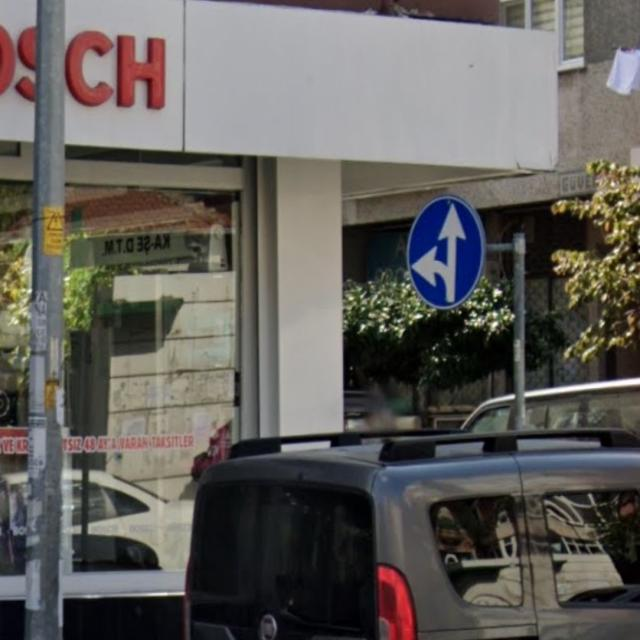ilerisol: (406, 195, 485, 309)
